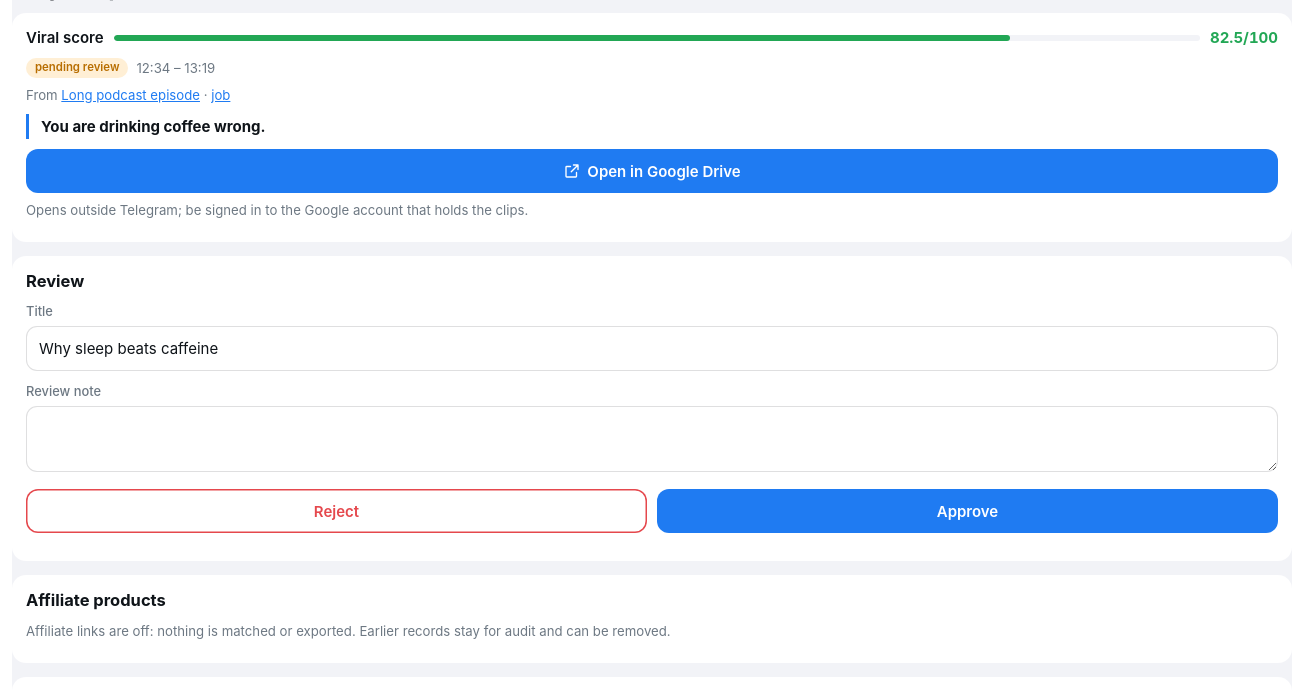
ClipDetail › approves with an edited title and keeps the AI suggestion visible
(page scrolled)
Step 1. Replace the text in the field labelled "Title" with "Sleep > coffee" → (652, 349), box [26,326,1278,371]
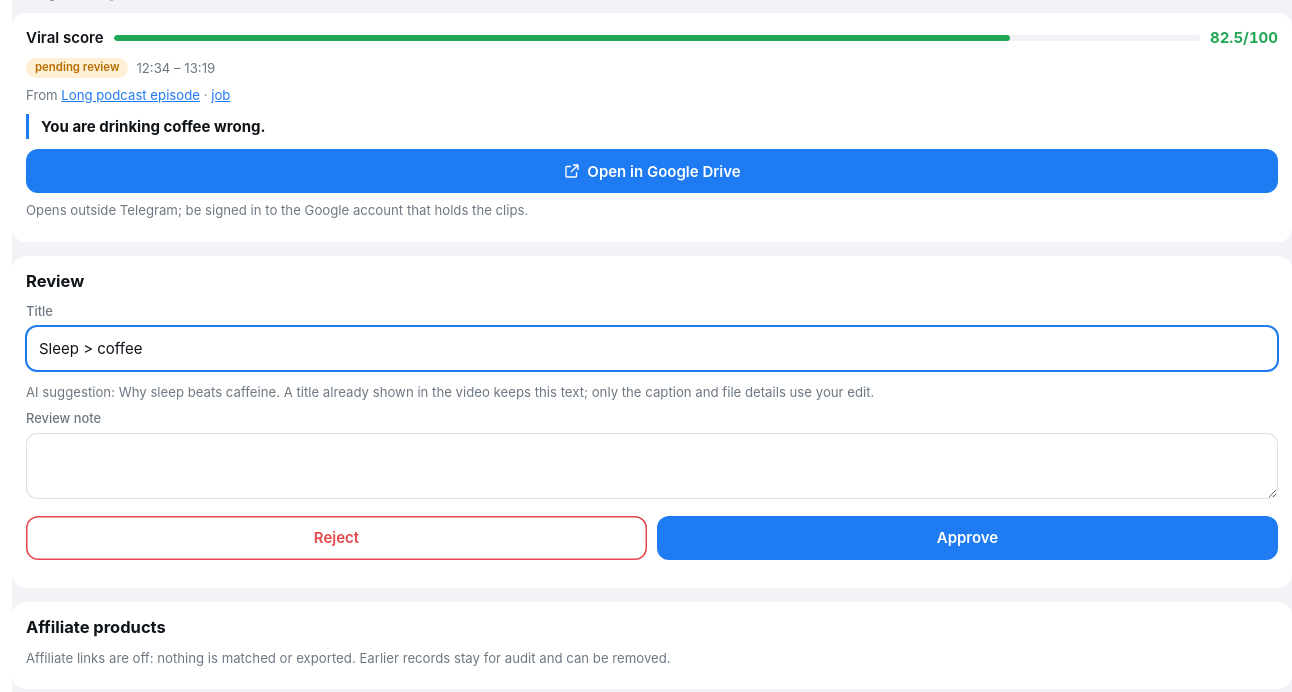
Step 2. Type "Great hook" into the text box labelled "Review note" → (652, 466), box [26,433,1278,499]
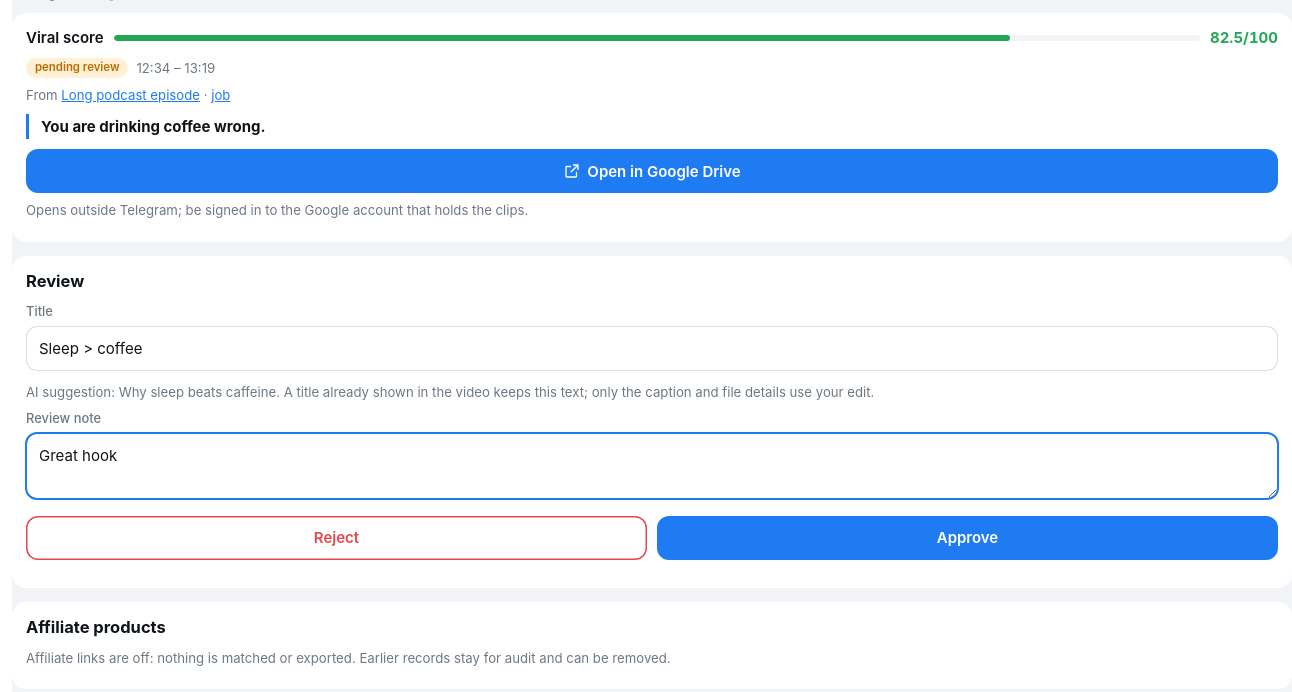
Step 3. Click the button "Approve" → (968, 538), box [657,516,1278,560]
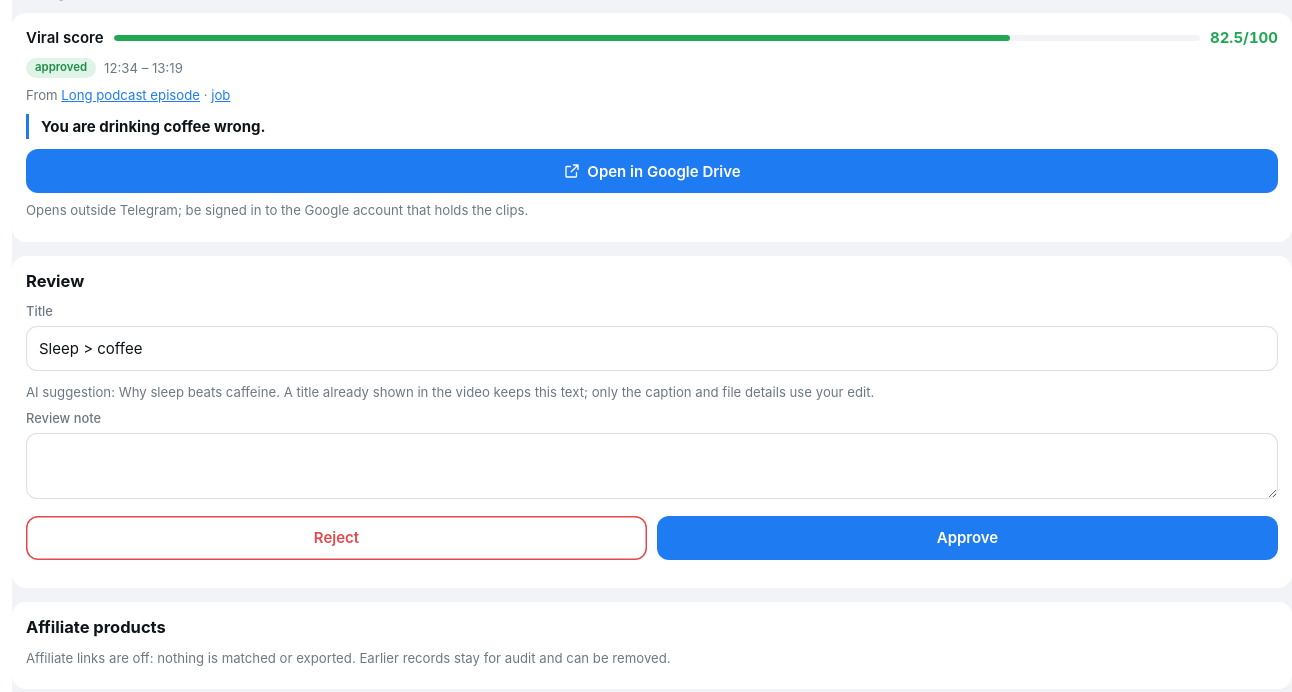
Now the text "AI suggestion" shows "Why sleep beats caffeine", box [119,384,276,400]
Now the text "AI suggestion" shows "A title already shown in the video keeps this text", box [276,384,874,400]
Now the text "approved" is shown, box [26,58,96,78]
